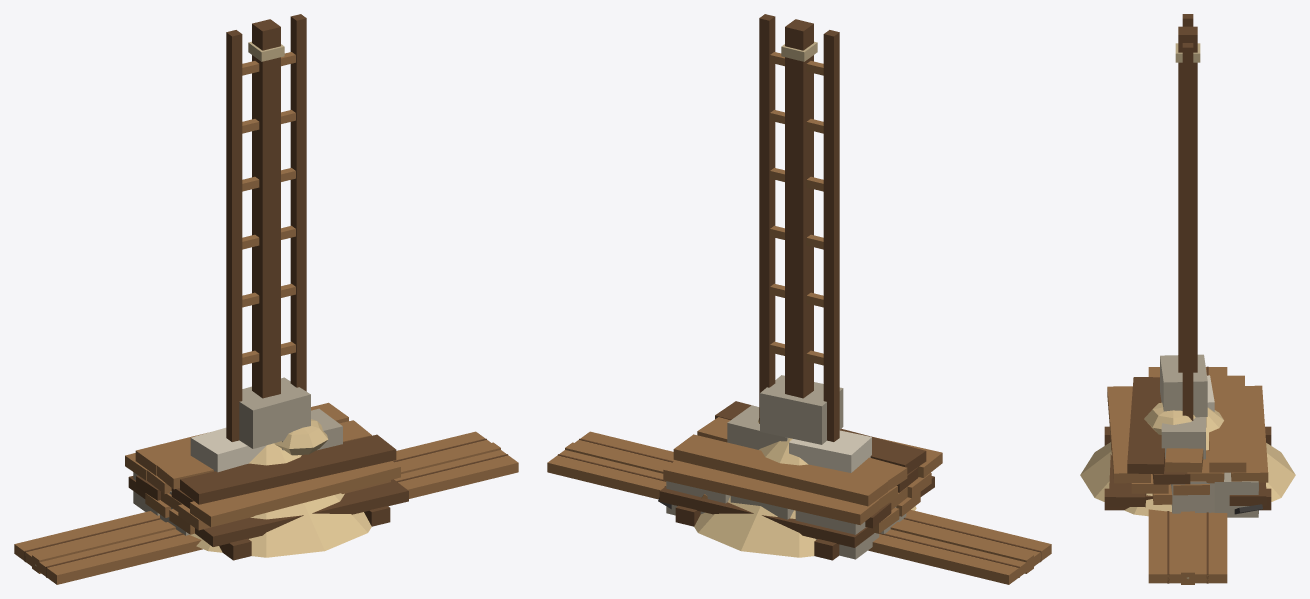
The model's file is Baustelle.fbx.
3 views of the same model, side by side, from view 1: azimuth 30°, elevation 25°; view 2: azimuth 150°, elevation 25°; view 3: azimuth 270°, elevation 25° (orthographic). The views are drawn at different scales.
Parts seen in each view (by area): view 1: Bretterstapel, Leiter, Brett, Pfosten, Steinhaufen, Sandhaufen, Riegel; view 2: Bretterstapel, Leiter, Brett, Pfosten, Steinhaufen, Sandhaufen, Riegel; view 3: Bretterstapel, Steinhaufen, Brett, Leiter, Sandhaufen, Pfosten, Riegel.
Part boxes in pixels (box(x1,y1,x2,y2)): Bretterstapel: box(125, 402, 408, 560); Leiter: box(226, 14, 306, 441); Brett: box(14, 431, 518, 584); Pfosten: box(248, 19, 284, 398); Steinhaufen: box(133, 377, 342, 535); Sandhaufen: box(189, 419, 371, 557); Riegel: box(32, 442, 500, 573); Bretterstapel: box(659, 401, 942, 560); Leiter: box(759, 14, 839, 441); Brett: box(547, 431, 1051, 584); Pfosten: box(781, 19, 817, 398); Steinhaufen: box(666, 375, 906, 559); Sandhaufen: box(658, 418, 916, 557); Riegel: box(565, 442, 1033, 573); Bretterstapel: box(1104, 375, 1271, 510); Steinhaufen: box(1160, 354, 1258, 517); Brett: box(1148, 366, 1227, 583); Leiter: box(1182, 14, 1193, 420); Sandhaufen: box(1080, 402, 1295, 516); Pfosten: box(1175, 26, 1200, 372); Riegel: box(1181, 511, 1194, 584).
Size of the model in its own units: 1 by 1.01 by 0.44.
